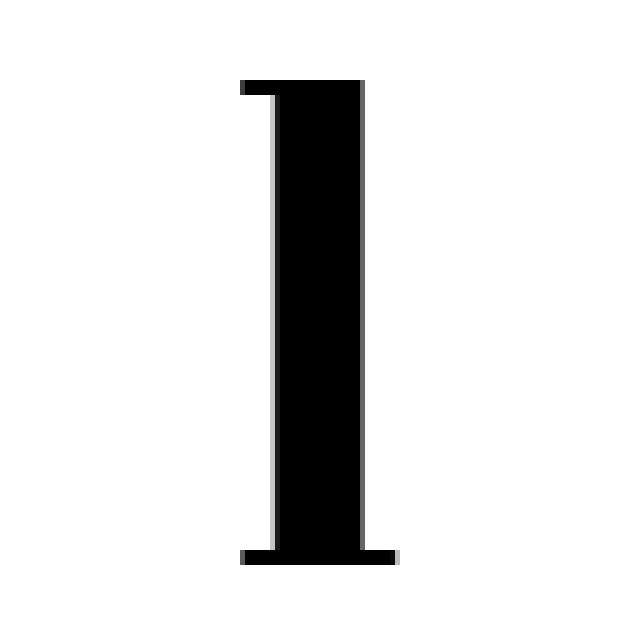L: (230, 70, 400, 565)
